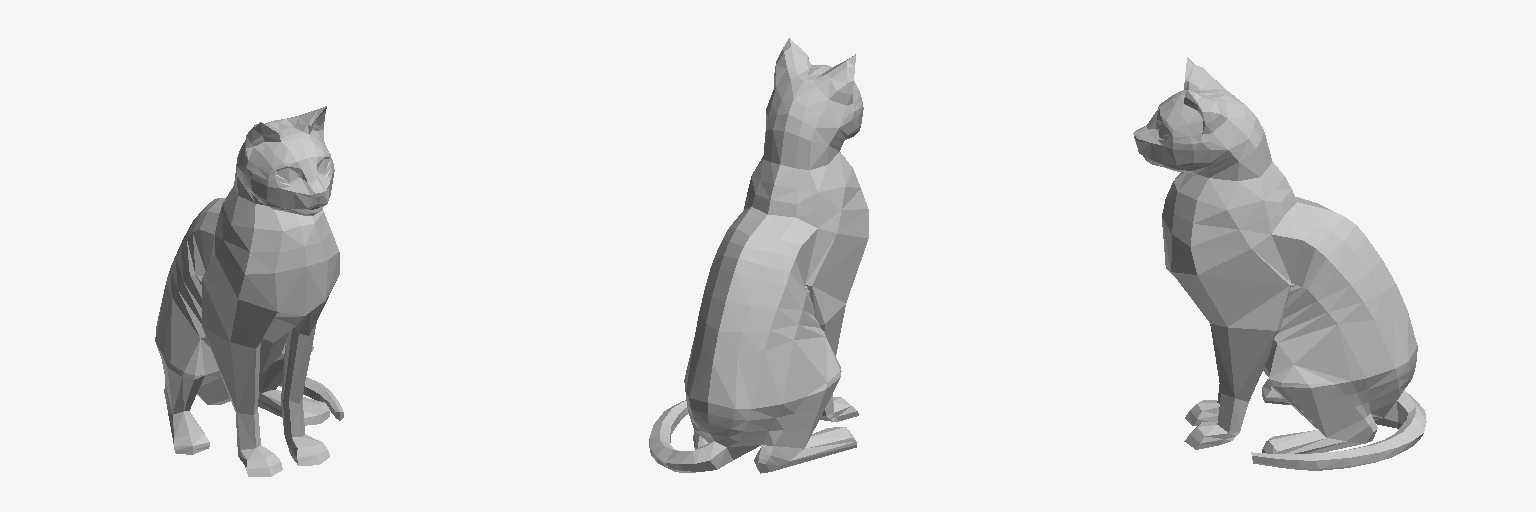
The model's file is cat.obj.
3 views of the same model, side by side, from view 1: azimuth 30°, elevation 25°; view 2: azimuth 150°, elevation 25°; view 3: azimuth 270°, elevation 25° (orthographic).
Visible parts, largest first — view 1: Plane.001; view 2: Plane.001; view 3: Plane.001.
Part boxes in pixels (left/top/right/bottom): Plane.001: left=155, top=106, right=343, bottom=476; Plane.001: left=649, top=38, right=868, bottom=473; Plane.001: left=1133, top=57, right=1426, bottom=470.
Size of the model in its own units: 0.5281 by 1.05 by 0.785.